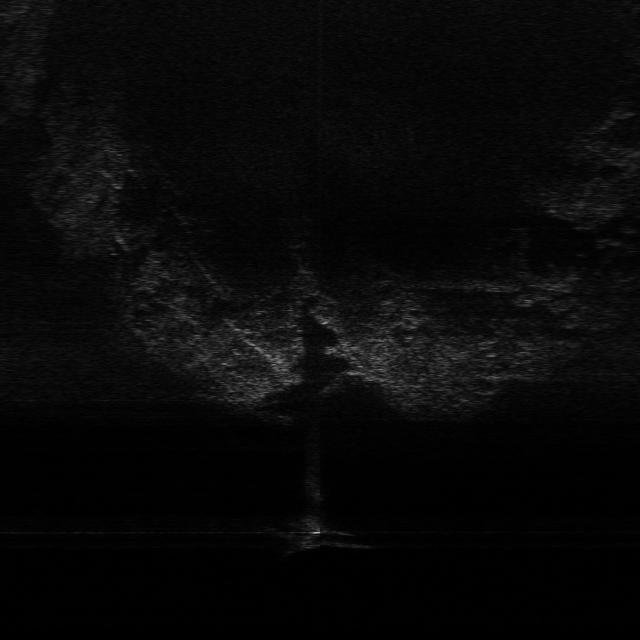plane: (267, 513, 374, 555)
